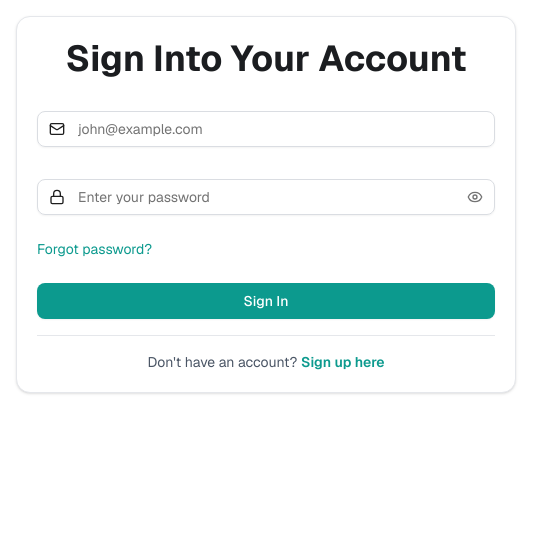
Test case: login with 2FA › stores nothing after the password and asks for a code
This screenshot has width=533, height=546.
In the field with placeholder "john@example.com": (266, 129) [37,111,495,147], type "ops@xbanka.com"
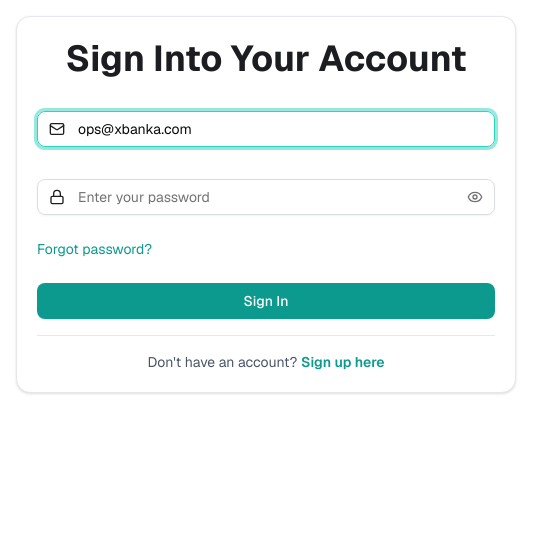
In the password field with placeholder "Enter your password": (266, 197) [37,179,495,215], type "Secret123!"
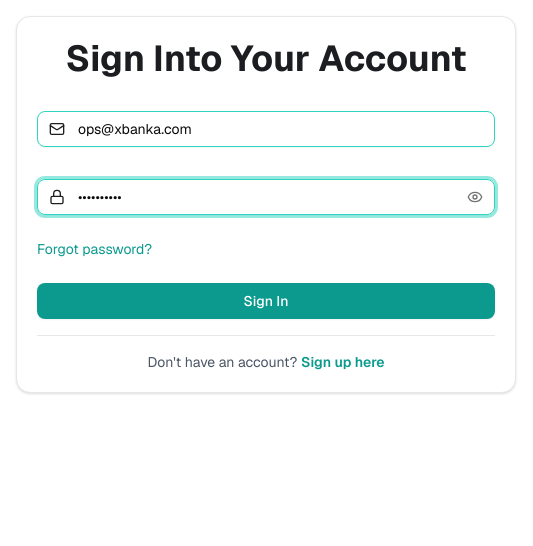
Click the button "Sign In": (266, 301) [37,283,495,319]
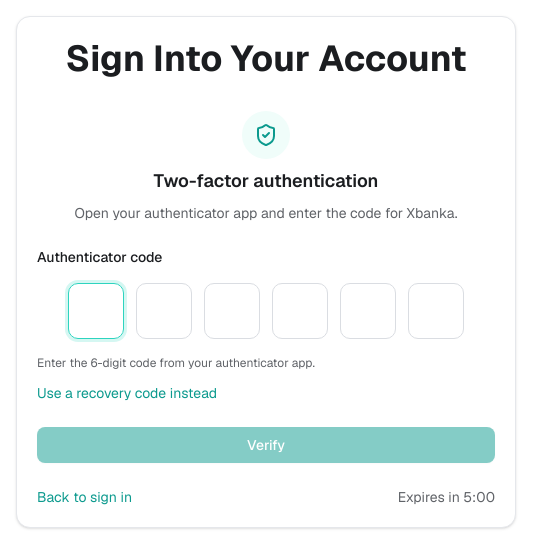
expect the heading "Two-factor authentication" is shown: met, box [154,167,378,195]
